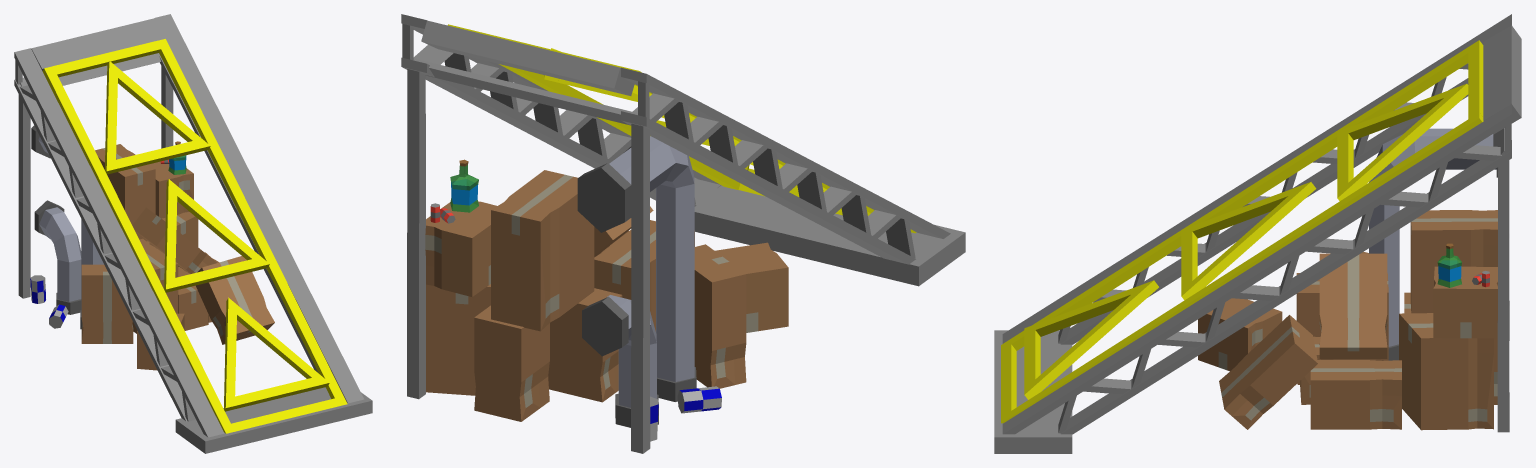
Rendered from ramp02.fbx.
The picture shows the model from 3 angles, left to right: view 1: azimuth 30°, elevation 25°; view 2: azimuth 150°, elevation 25°; view 3: azimuth 270°, elevation 25°; orthographic projection. The views are drawn at different scales.
Parts seen in each view (by area): view 1: estructura1, marcoGlow, estructura, pCube10, pCube49, flecha01, flecha02, flecha03, polySurface311, polySurface325, pCube11, polySurface310 (+9 smaller); view 2: estructura1, pCube49, polySurface307, pCube10, polySurface314, estructura, caja03, polySurface311, polySurface306, pCube11, caja04, polySurface303 (+10 smaller); view 3: estructura, marcoGlow, estructura1, polySurface306, polySurface304, polySurface305, polySurface325, polySurface307, flecha01, flecha02, flecha03, pCube10 (+7 smaller).
Boxes of the visible parts, x1=… form: estructura1: x1=14, y1=48, x2=224, y2=437; marcoGlow: x1=42, y1=39, x2=347, y2=433; estructura: x1=154, y1=14, x2=364, y2=403; pCube10: x1=175, y1=387, x2=372, y2=453; pCube49: x1=18, y1=53, x2=173, y2=298; flecha01: x1=224, y1=297, x2=329, y2=411; flecha02: x1=164, y1=179, x2=269, y2=292; flecha03: x1=104, y1=61, x2=210, y2=174; polySurface311: x1=81, y1=264, x2=133, y2=343; polySurface325: x1=196, y1=256, x2=274, y2=344; pCube11: x1=31, y1=18, x2=164, y2=70; polySurface310: x1=39, y1=207, x2=81, y2=301; estructura1: x1=621, y1=67, x2=950, y2=264; pCube49: x1=407, y1=58, x2=650, y2=453; polySurface307: x1=491, y1=170, x2=594, y2=331; pCube10: x1=694, y1=177, x2=965, y2=286; polySurface314: x1=609, y1=136, x2=694, y2=381; estructura: x1=401, y1=14, x2=721, y2=206; caja03: x1=474, y1=305, x2=549, y2=421; polySurface311: x1=694, y1=244, x2=746, y2=388; polySurface306: x1=426, y1=284, x2=490, y2=395; pCube11: x1=421, y1=20, x2=634, y2=95; caja04: x1=425, y1=201, x2=496, y2=296; polySurface303: x1=548, y1=288, x2=622, y2=402; estructura: x1=1002, y1=104, x2=1511, y2=434; marcoGlow: x1=1001, y1=40, x2=1483, y2=423; estructura1: x1=1002, y1=14, x2=1511, y2=344; polySurface306: x1=1399, y1=313, x2=1493, y2=430; polySurface304: x1=1319, y1=253, x2=1387, y2=358; polySurface305: x1=1310, y1=360, x2=1401, y2=429; polySurface325: x1=1219, y1=315, x2=1317, y2=429; polySurface307: x1=1410, y1=210, x2=1497, y2=313; flecha01: x1=1024, y1=280, x2=1158, y2=399; flecha02: x1=1181, y1=182, x2=1316, y2=300; flecha03: x1=1337, y1=83, x2=1468, y2=200; pCube10: x1=994, y1=330, x2=1072, y2=453.
Size of the model in its own units: 3.25 by 4.74 by 6.72.
